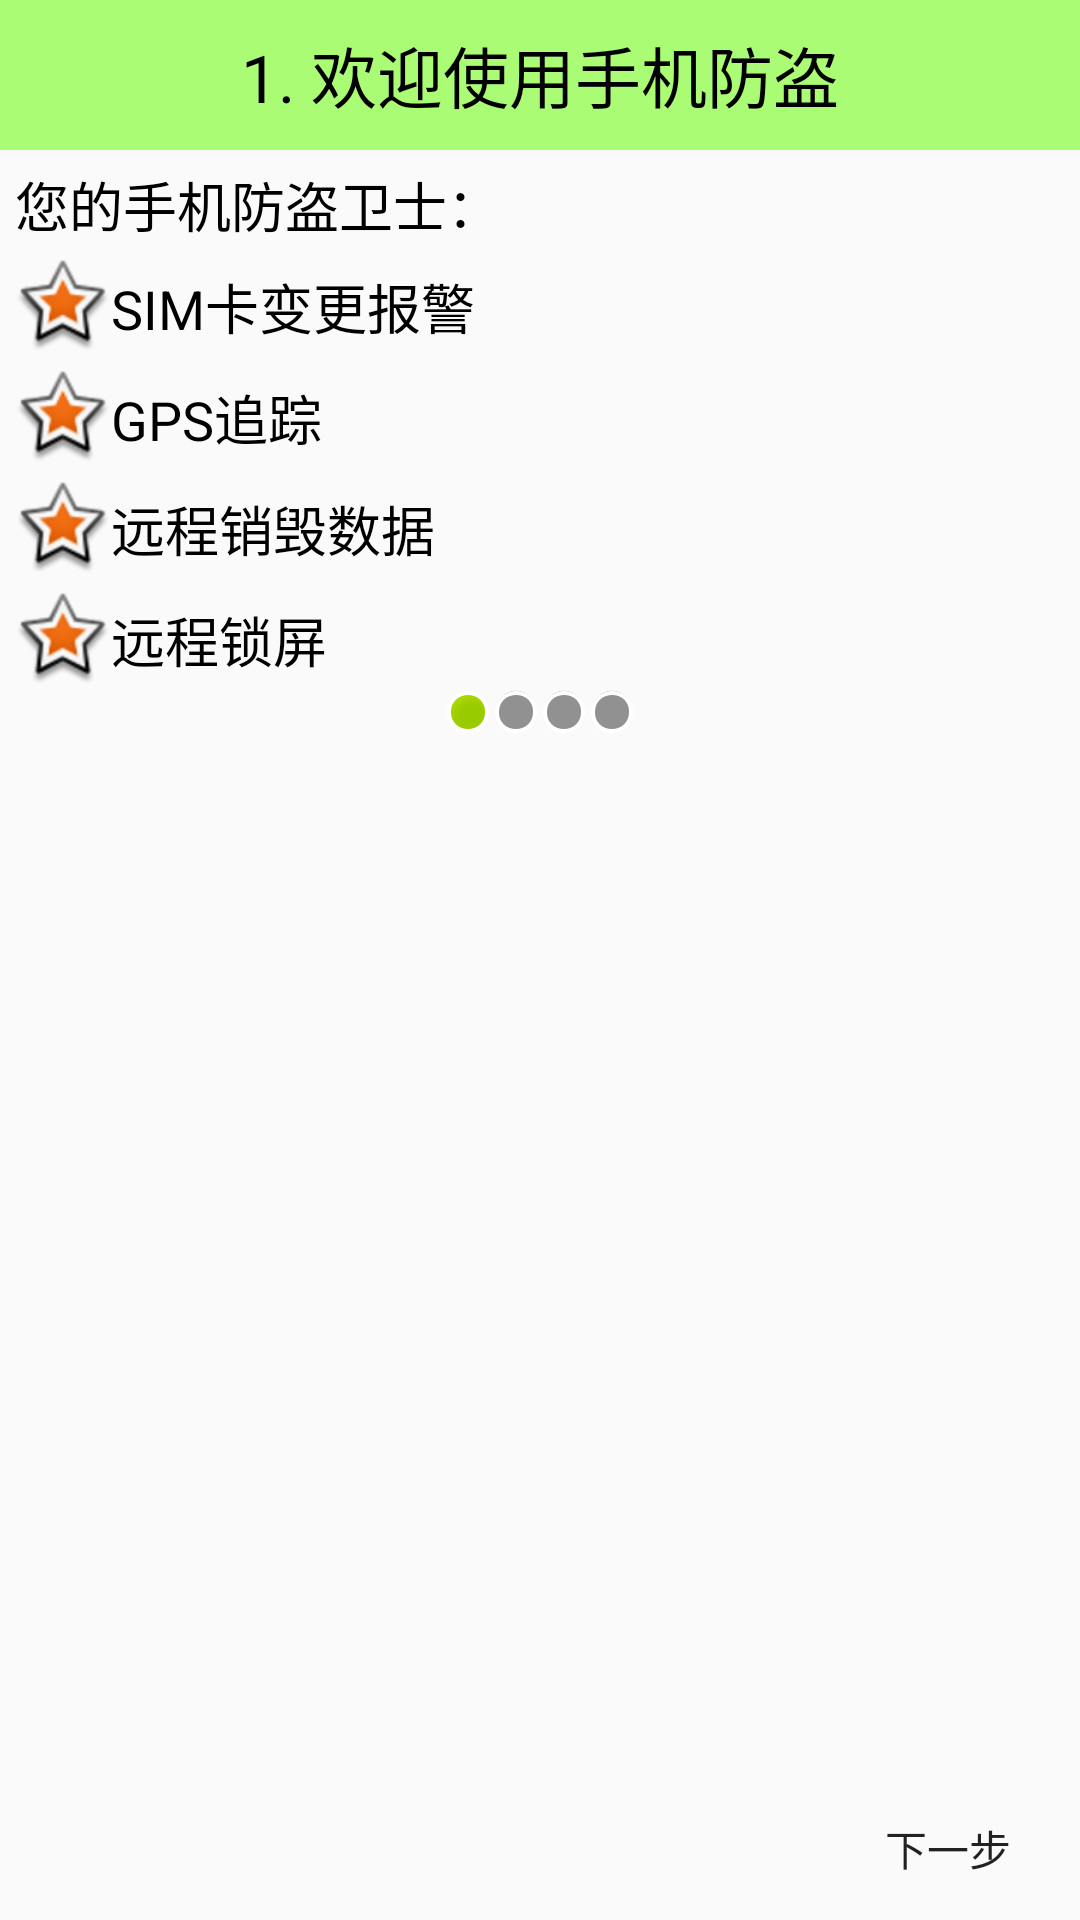

Screen size 1080x1920. Icon name, then its center in pixels as (x,y):
presence invisible: (516,710), (564,710), (612,710)
presence online: (468,712)
